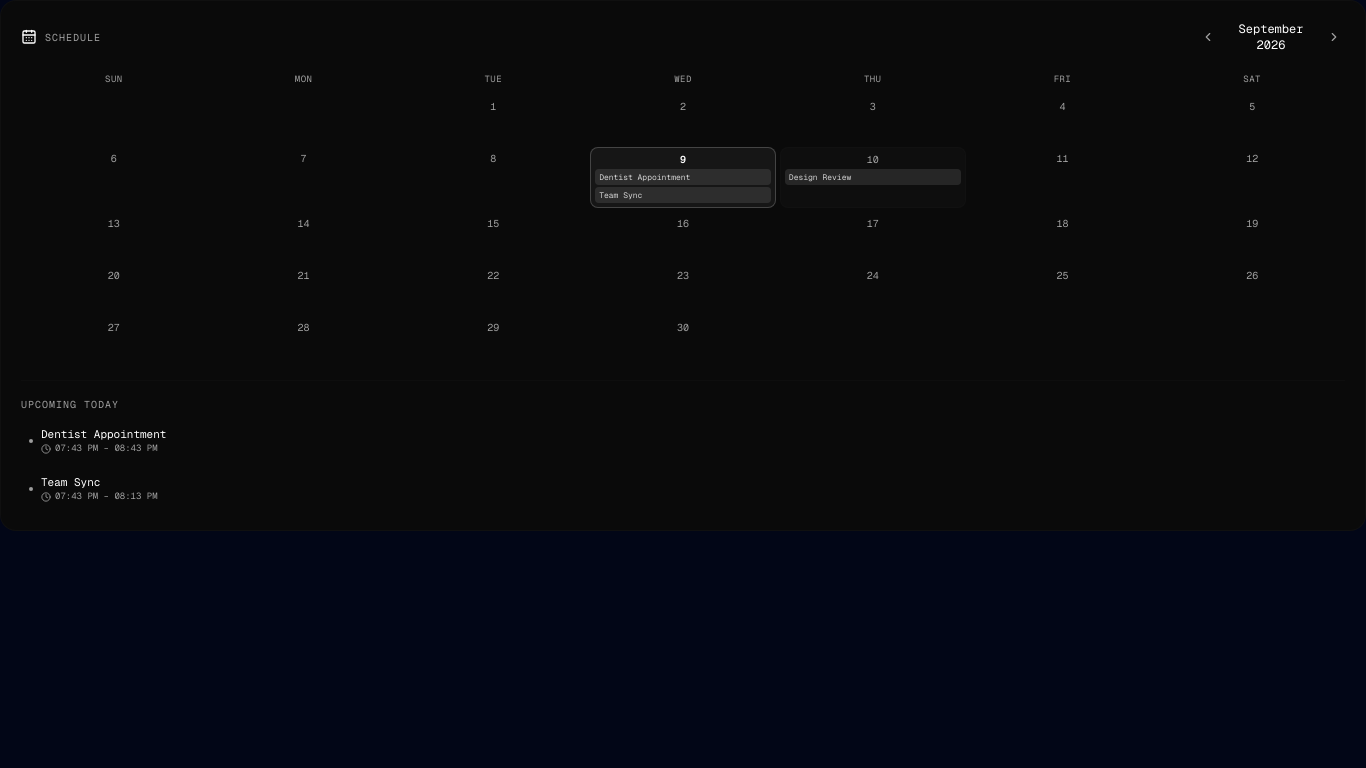
Test: Feature 3: Calendar Widget & Modal › T2.3: opens event details modal when clicking day cell with events
Click the element showing "Dentist Appointment Team Sync": (683, 186) x1=595 y1=168 x2=771 y2=202
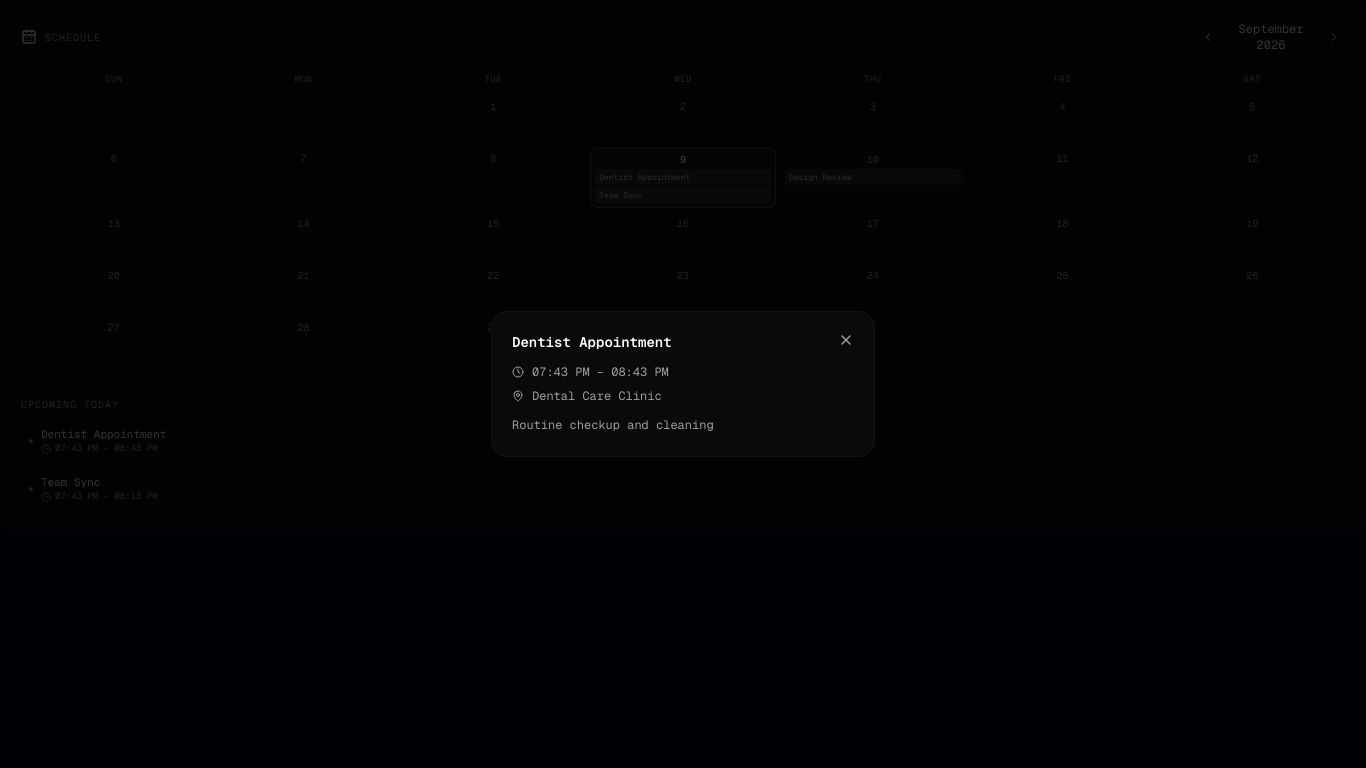
Check: the text "Routine checkup and cleaning" is shown, box x1=512 y1=417 x2=714 y2=433
Check: the text "Dental Care Clinic" is shown, box x1=512 y1=388 x2=662 y2=404
